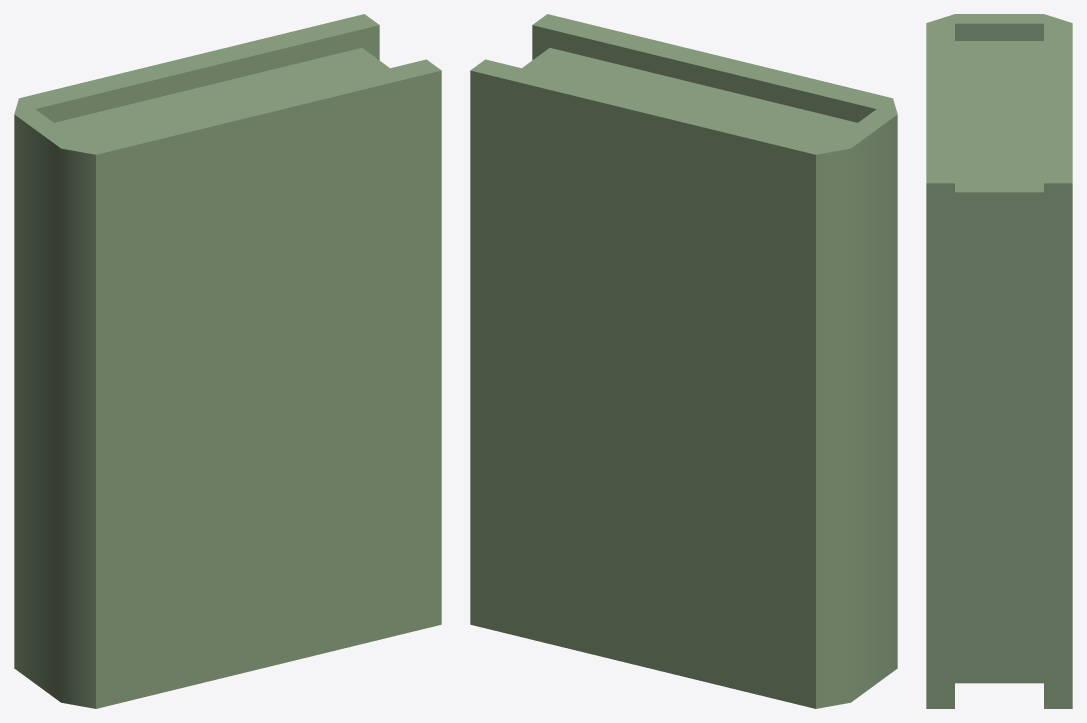
File: Book_V07.fbx
The picture shows the model from 3 angles, left to right: view 1: azimuth 30°, elevation 25°; view 2: azimuth 150°, elevation 25°; view 3: azimuth 270°, elevation 25°; orthographic projection. The views are drawn at different scales.
Visible parts, largest first — view 1: Book_V7; view 2: Book_V7; view 3: Book_V7.
Boxes of the visible parts, bbox=[...] form: Book_V7: bbox=[14, 14, 441, 708]; Book_V7: bbox=[470, 14, 897, 708]; Book_V7: bbox=[926, 14, 1072, 708].
Size of the model in its own units: 21.97 by 31.83 by 8.04.
